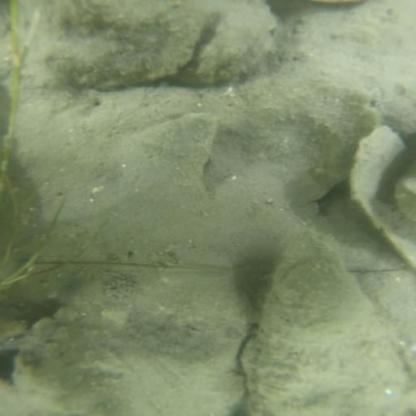3: (245, 236, 416, 416)
Oyster-Closed: (10, 245, 253, 415)
Oyster-Open: (26, 0, 204, 91), (195, 12, 274, 84)
